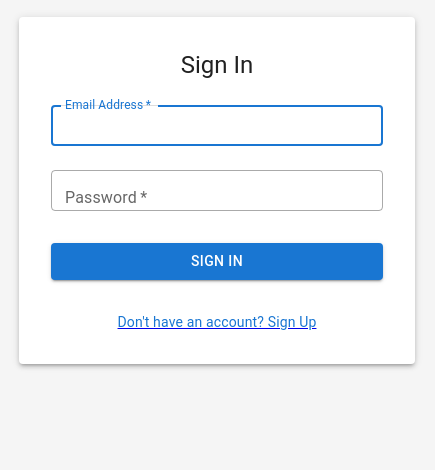
Login Component › handles rate limiting
The image size is (435, 470).
Type "test@example.com" into the field labelled "Email Address *" at (217, 126), box [51,105,383,146]
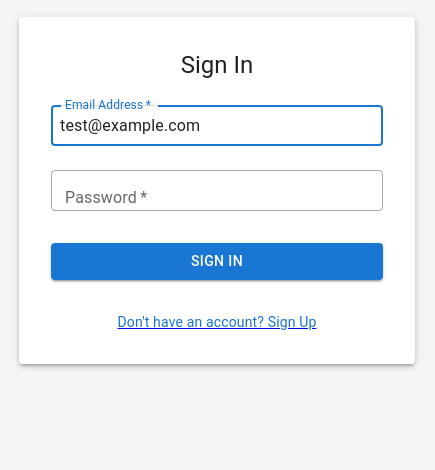
Type "Password123!" into the password field labelled "Password *" at (217, 190), box [51,170,383,211]
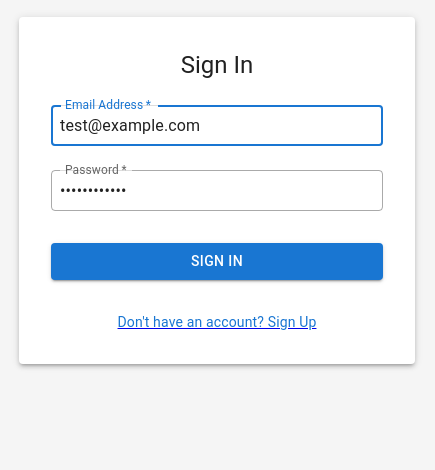
Click the button "Sign In" at (217, 261), box [51,243,383,280]
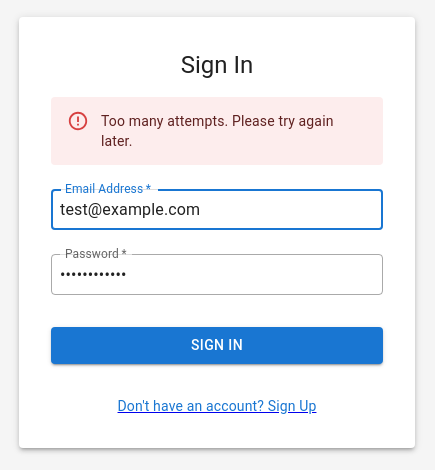
Check: the text "Too many attempts. Please try again later." is shown, box [101,103,367,159]
